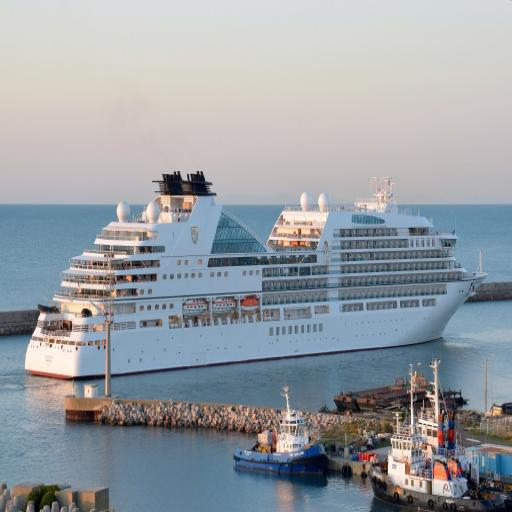cruises: (23, 159, 492, 390)
